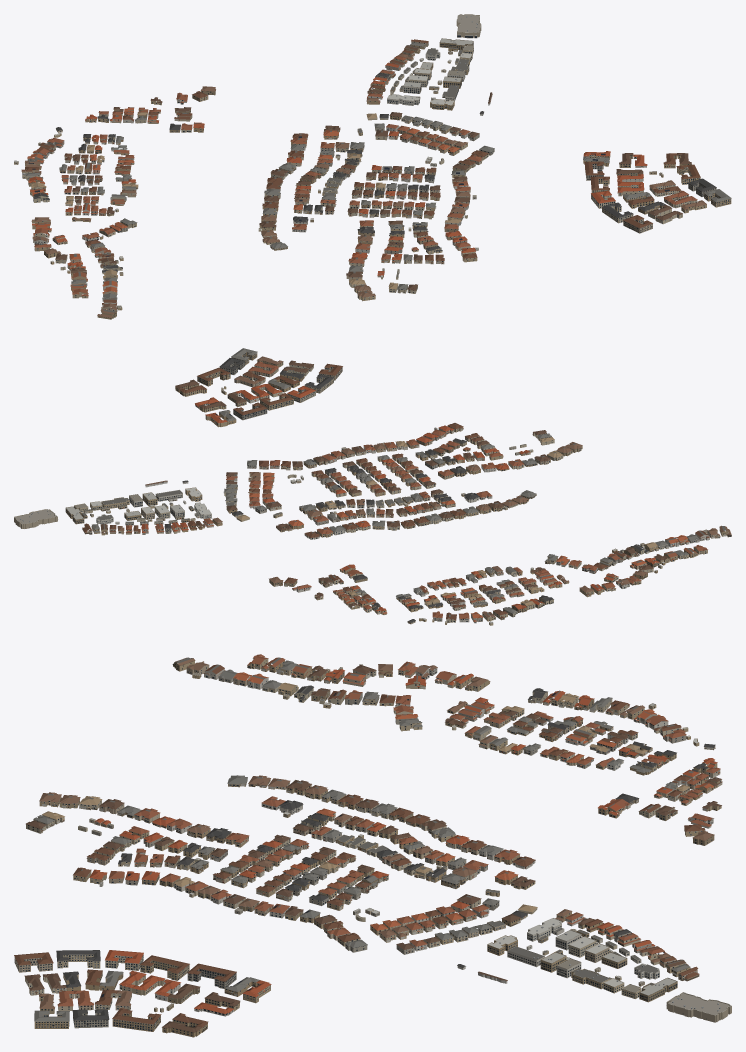
The picture shows the model from 3 angles, top to bottom: view 1: azimuth 30°, elevation 25°; view 2: azimuth 150°, elevation 25°; view 3: azimuth 270°, elevation 25°; orthographic projection. The views are drawn at different scales.
Parts seen in each view (by area): view 1: buildings_r4_c3_lod0; view 2: buildings_r4_c3_lod0; view 3: buildings_r4_c3_lod0.
Part boxes in pixels (x1=…): buildings_r4_c3_lod0: x1=14, y1=14, x2=731, y2=319; buildings_r4_c3_lod0: x1=14, y1=348, x2=731, y2=625; buildings_r4_c3_lod0: x1=14, y1=654, x2=731, y2=1037.
Bounding box in the file's own units: 1083 × 39 × 828.
